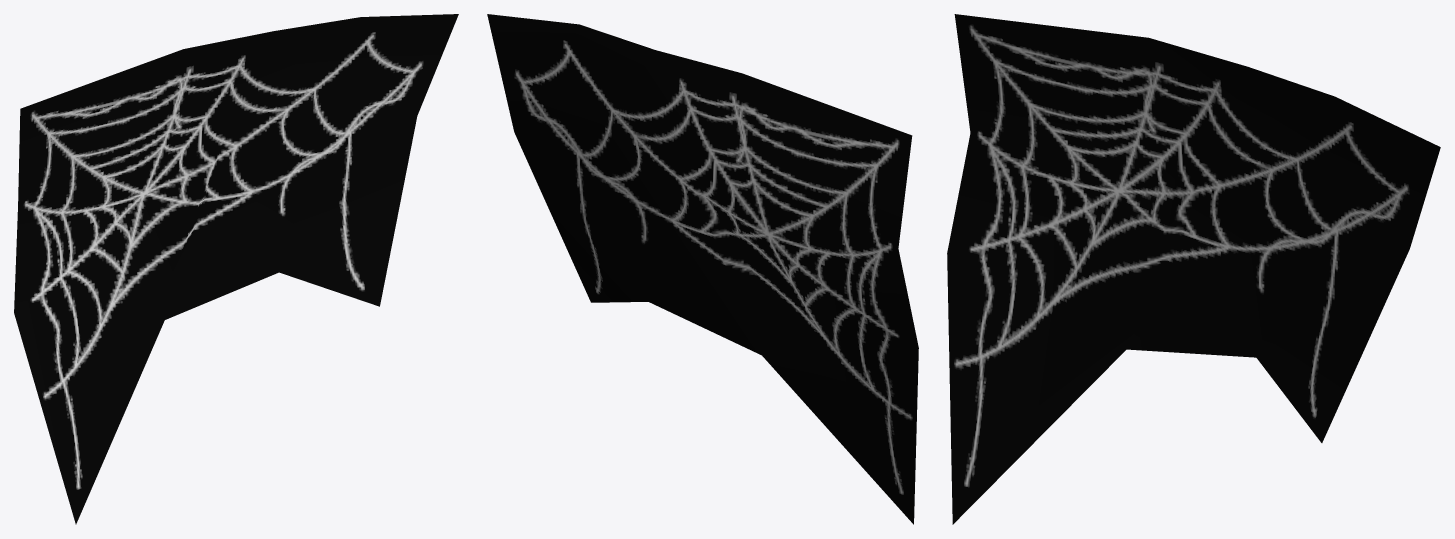
Rendered from SM_Cobwebs_12.fbx.
The picture shows the model from 3 angles, left to right: view 1: azimuth 30°, elevation 25°; view 2: azimuth 150°, elevation 25°; view 3: azimuth 330°, elevation 25°; orthographic projection. The views are drawn at different scales.
Parts seen in each view (by area): view 1: SM_Cobwebs_12; view 2: SM_Cobwebs_12; view 3: SM_Cobwebs_12.
Boxes of the visible parts, left/top/right/bottom form: SM_Cobwebs_12: left=14, top=14, right=458, bottom=524; SM_Cobwebs_12: left=487, top=14, right=918, bottom=524; SM_Cobwebs_12: left=947, top=14, right=1440, bottom=524.
Bounding box in the file's own units: 69.93 × 65.54 × 10.26.
Materials: 1 (1 with a texture image).
